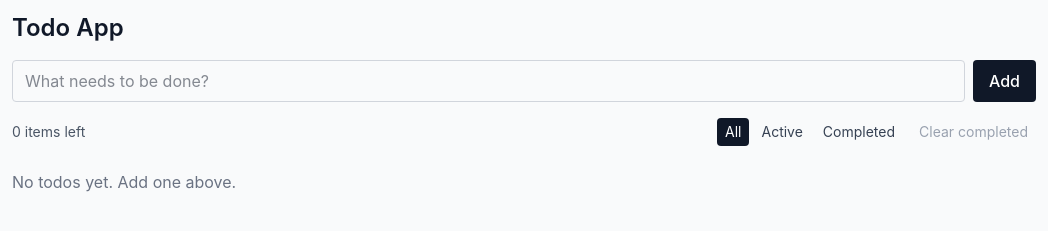
Test: TodoPage › edits a todo title
The image size is (1048, 231).
Type "Buy milk" into the field named "New todo".
click(488, 81); type("Buy milk")  # box [12,60,965,102]
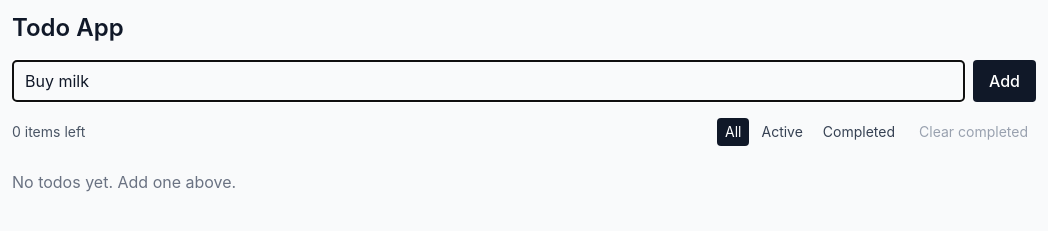
Click the button "Add".
click(1004, 81)  # box [973,60,1036,102]
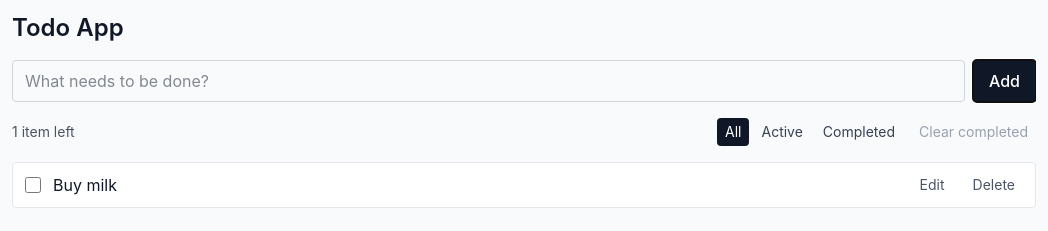
Click the button named "Edit \"Buy milk\"".
click(932, 185)  # box [912,171,953,199]
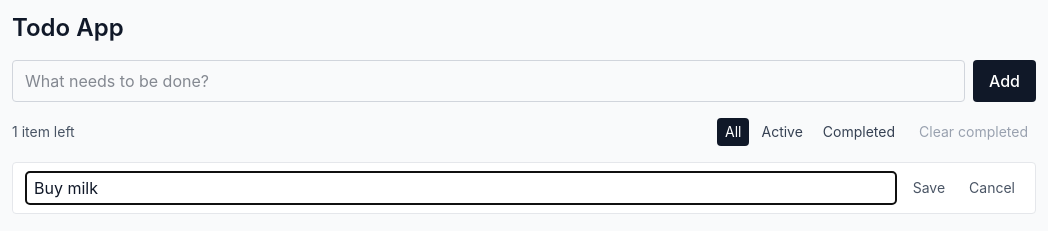
Replace the text in the field named "Edit \"Buy milk\"" with "Buy oat milk" at (461, 188), box [25,171,897,205]
Then press Enter
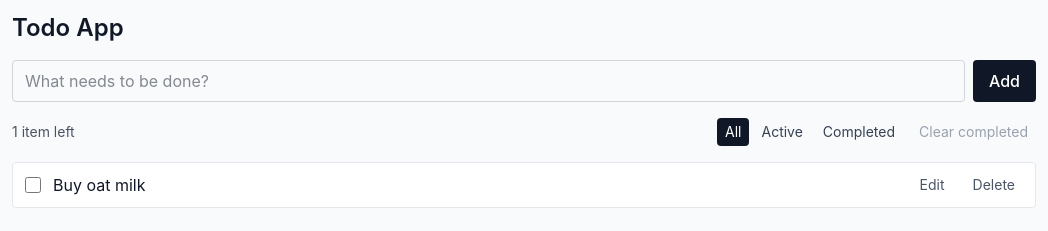
Check: the text "Buy milk" is not shown
Check: the text "Buy oat milk" is shown, box [53,175,145,195]
